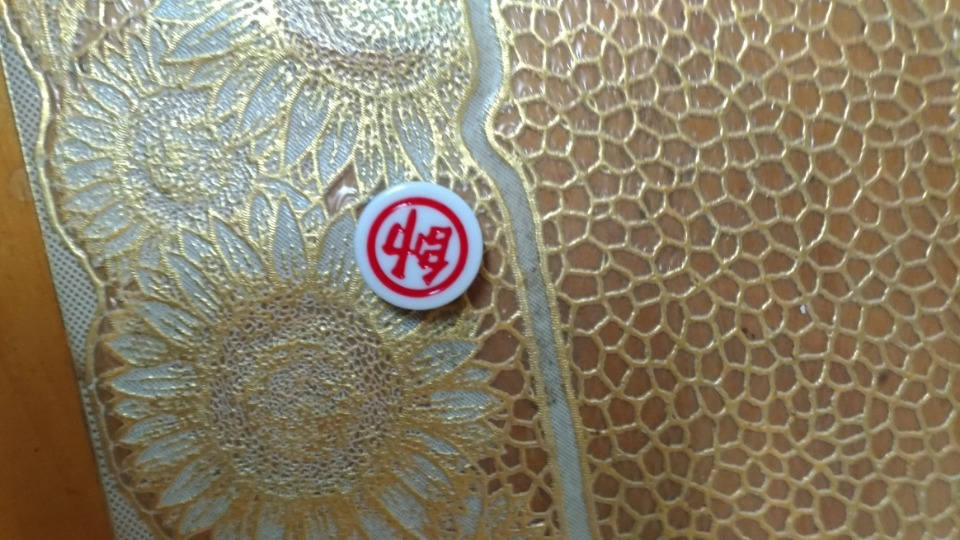r-king: (350, 183, 486, 318)
